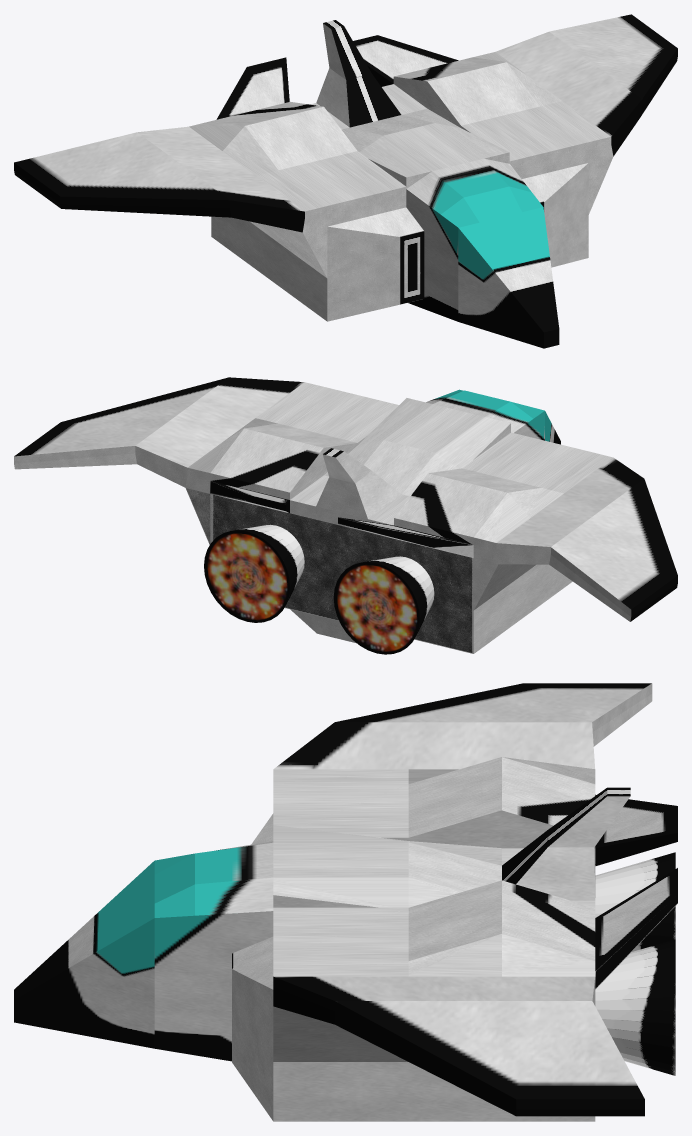
The model's file is spaceship.glb.
3 renders of one model, top to bottom at view 1: azimuth 30°, elevation 25°; view 2: azimuth 150°, elevation 25°; view 3: azimuth 270°, elevation 25°, orthographic. The views are drawn at different scales.
Parts seen in each view (by area): view 1: Cube; view 2: Cube, Cylinder.001, Cylinder; view 3: Cube, Cylinder, Cylinder.001.
Part boxes in pixels (left/top/right/bottom): Cube: left=14, top=14, right=677, bottom=348; Cube: left=14, top=377, right=677, bottom=653; Cylinder.001: left=333, top=556, right=434, bottom=654; Cylinder: left=204, top=524, right=304, bottom=622; Cube: left=14, top=683, right=677, bottom=1121; Cylinder: left=595, top=939, right=675, bottom=1075; Cylinder.001: left=595, top=852, right=675, bottom=951.
Bounding box in the file's own units: 11.89 × 3.56 × 8.02.
3 materials, 3 textured.
